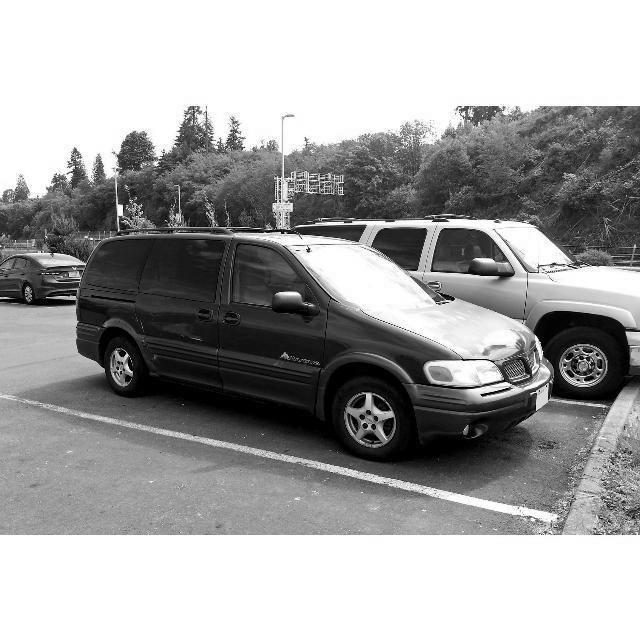doorouter-dent: (138, 294, 224, 376)
